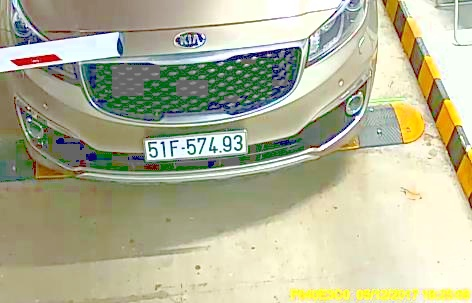plate: (141, 128, 249, 161)
